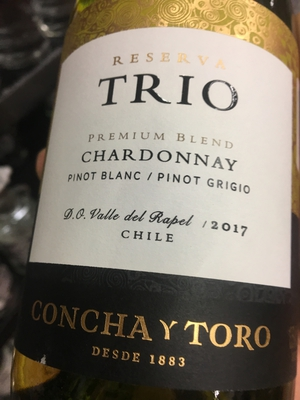trio chardonnay: (16, 3, 295, 400)
